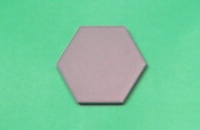green: (57, 26, 147, 104)
